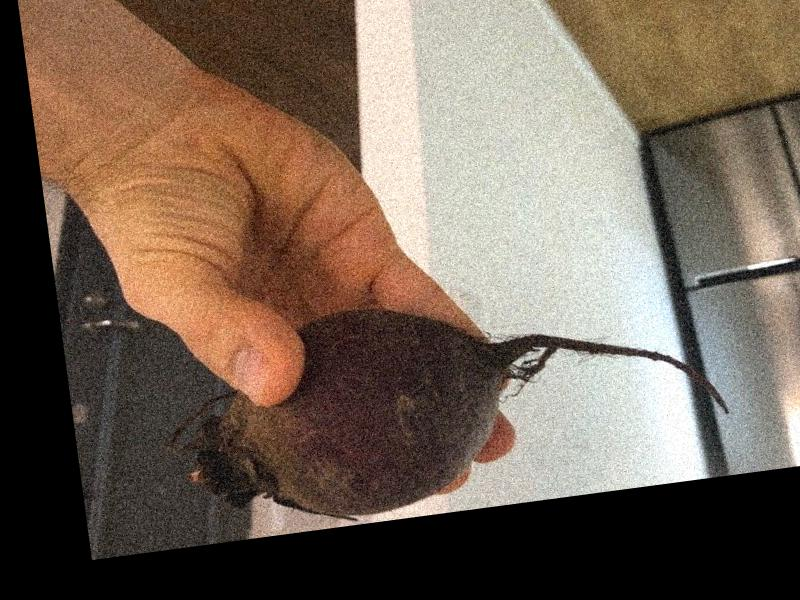Beet: (152, 267, 734, 544)
